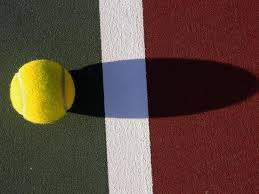tennis_ball: (9, 58, 76, 126)
